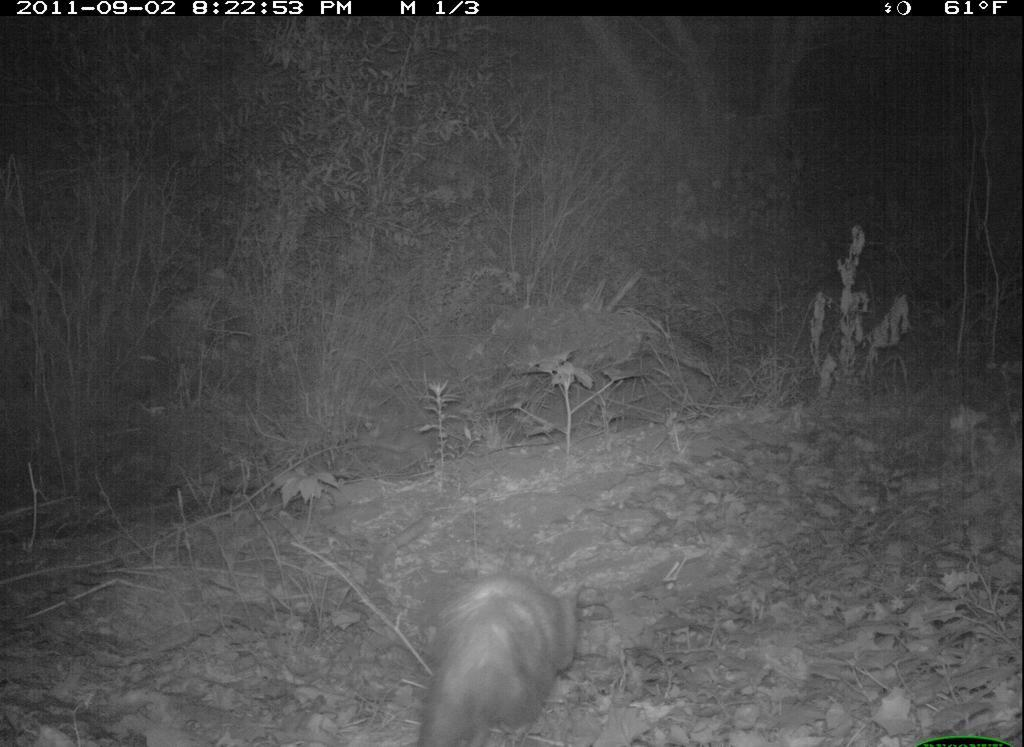opossum: (404, 553, 606, 747)
